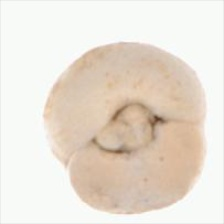L3: (90, 98, 163, 159)
L4: (44, 42, 208, 214)
